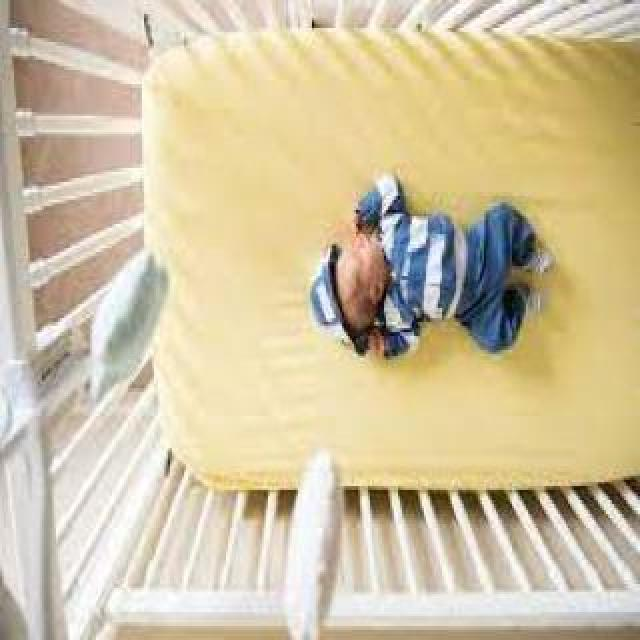baby: (308, 173, 560, 369)
